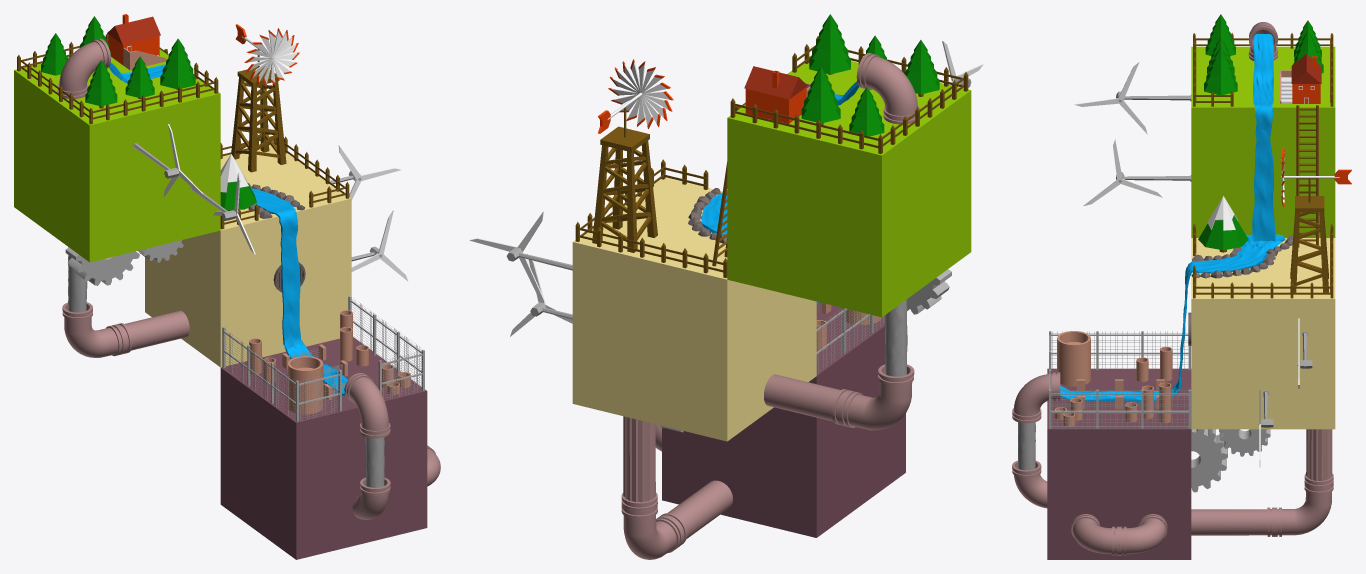
Rendered from qweqwe.fbx.
3 views of the same model, side by side, from view 1: azimuth 30°, elevation 25°; view 2: azimuth 150°, elevation 25°; view 3: azimuth 270°, elevation 25° (orthographic). The views are drawn at different scales.
Parts seen in each view (by area): view 1: pCube3, pCube1, pCube2, polySurface20, pCylinder42, polySurface88, pCone9, polySurface51, pCylinder41, polySurface42, polySurface40, polySurface43 (+5 smaller); view 2: pCube3, pCube2, pCube1, polySurface20, pCylinder42, pCone9, polySurface43, polySurface42, pCylinder44, polySurface88, polySurface40, pPipe7 (+4 smaller); view 3: pCube2, pCube1, pCube3, polySurface20, polySurface51, pCylinder42, polySurface88, polySurface42, pCylinder41, pCone9, polySurface40, pPlatonic25 (+5 smaller).
Part boxes in pixels (<box>): pCube3: <box>14,49,220,262</box>; pCube1: <box>220,337,427,559</box>; pCube2: <box>145,144,351,367</box>; polySurface20: <box>57,38,440,519</box>; pCylinder42: <box>17,33,349,229</box>; polySurface88: <box>223,296,424,421</box>; pCone9: <box>41,16,256,210</box>; polySurface51: <box>109,62,347,395</box>; pCylinder41: <box>249,310,410,414</box>; polySurface42: <box>65,142,382,285</box>; polySurface40: <box>164,124,408,281</box>; polySurface43: <box>248,31,297,84</box>; pCube3: <box>727,61,971,317</box>; pCube2: <box>572,177,816,441</box>; pCube1: <box>662,302,905,537</box>; polySurface20: <box>621,53,919,559</box>; pCylinder42: <box>575,36,968,277</box>; pCone9: <box>801,14,939,136</box>; polySurface43: <box>611,62,669,125</box>; polySurface42: <box>506,75,971,432</box>; pCylinder44: <box>885,299,907,376</box>; polySurface88: <box>816,301,884,372</box>; polySurface40: <box>469,41,983,336</box>; pPipe7: <box>745,70,806,123</box>; pCube2: <box>1191,238,1335,429</box>; pCube1: <box>1047,368,1191,559</box>; pCube3: <box>1191,46,1335,237</box>; polySurface20: <box>1012,22,1333,555</box>; polySurface51: <box>1060,34,1285,402</box>; pCylinder42: <box>1193,33,1333,298</box>; polySurface88: <box>1049,331,1190,428</box>; polySurface42: <box>1116,91,1312,492</box>; pCylinder41: <box>1054,331,1172,426</box>; pCone9: <box>1198,14,1323,250</box>; polySurface40: <box>1074,62,1299,467</box>; pPlatonic25: <box>1191,235,1293,278</box>.
Bounding box in the file's own units: 28.11 × 33.69 × 23.6.
